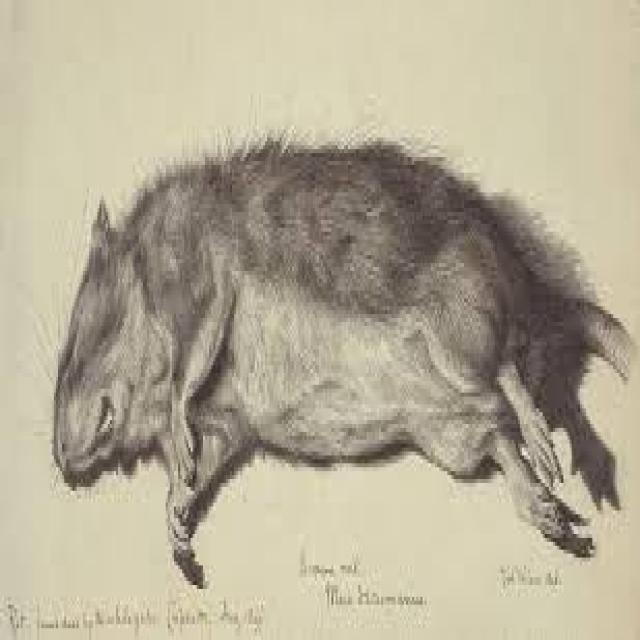rat: (48, 130, 636, 585)
